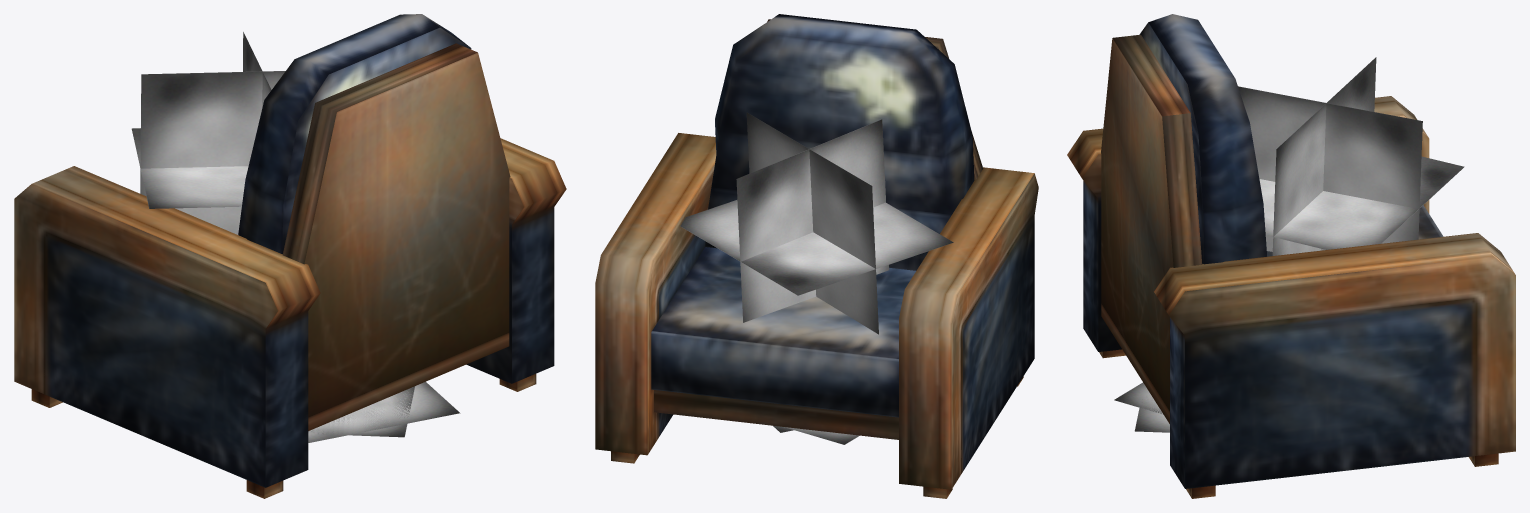
File: c_SWGchair05A_b.glb
3 views of the same model, side by side, from view 1: azimuth 30°, elevation 25°; view 2: azimuth 150°, elevation 25°; view 3: azimuth 270°, elevation 25° (orthographic). The views are drawn at different scales.
Visible parts, largest first — view 1: c_SWGchair05A_b; view 2: c_SWGchair05A_b; view 3: c_SWGchair05A_b.
Boxes of the visible parts, left/top/right/bottom form: c_SWGchair05A_b: left=14, top=14, right=566, bottom=498; c_SWGchair05A_b: left=595, top=14, right=1038, bottom=498; c_SWGchair05A_b: left=1067, top=14, right=1515, bottom=498.
Bounding box in the file's own units: 1.2 × 1.05 × 1.14.
2 materials, 2 textured.
